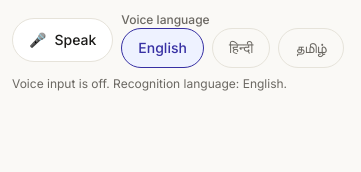
VoiceInput (supported browser) › Stop ends recognition and returns to idle
The width and height of the screenshot is (361, 172).
What coordinates should you click on to do the following:
click the button with aria-label "start voice input"
I would click on:
 (63, 40)
Its box is [12,18,113,62].
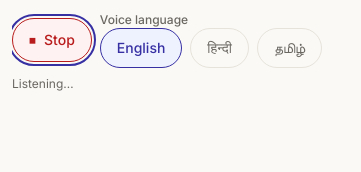
What coordinates should you click on to do the following:
click the button with aria-label "stop voice input"
I would click on:
 (52, 40)
Its box is [12,18,92,62].
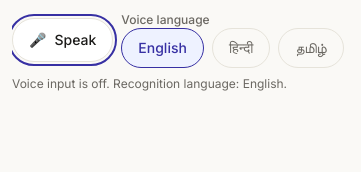
Check: the button with aria-label "start voice input" is shown, box [12,18,113,62]
